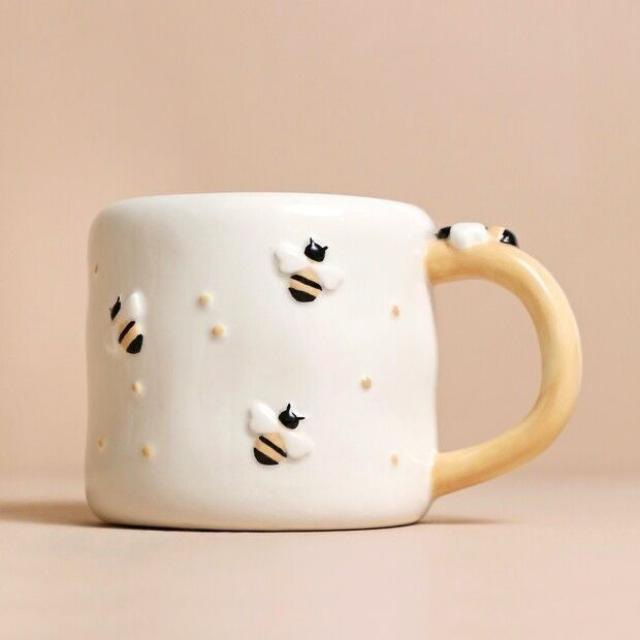glass cup: (88, 192, 582, 529)
